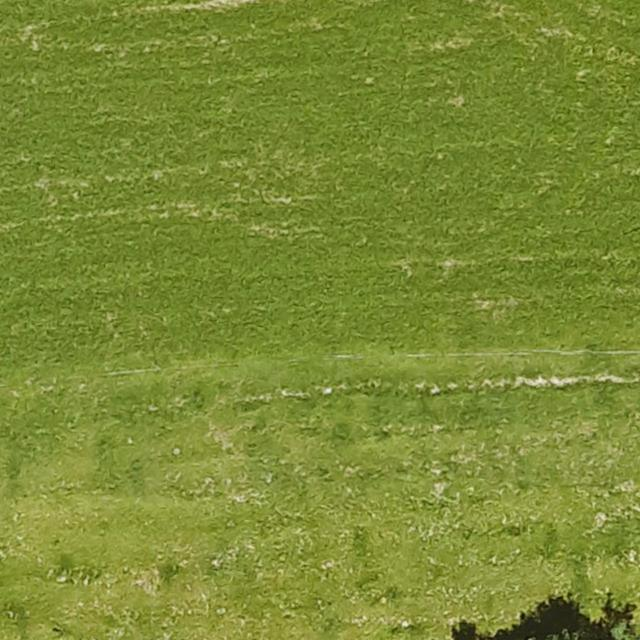tree: (524, 622, 640, 640)
